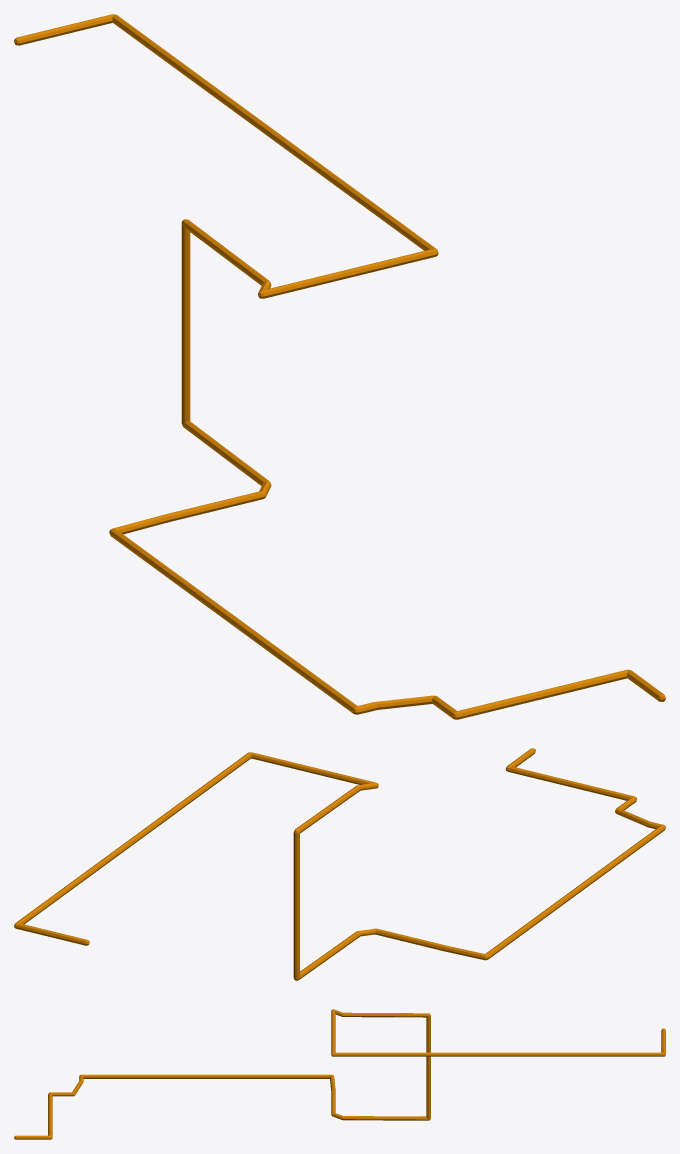
3 views of the same model, one above another, from view 1: azimuth 30°, elevation 25°; view 2: azimuth 150°, elevation 25°; view 3: azimuth 270°, elevation 25° (orthographic). The views are drawn at different scales.
Bounding box in the file's own units: 862 × 520 × 2863.
